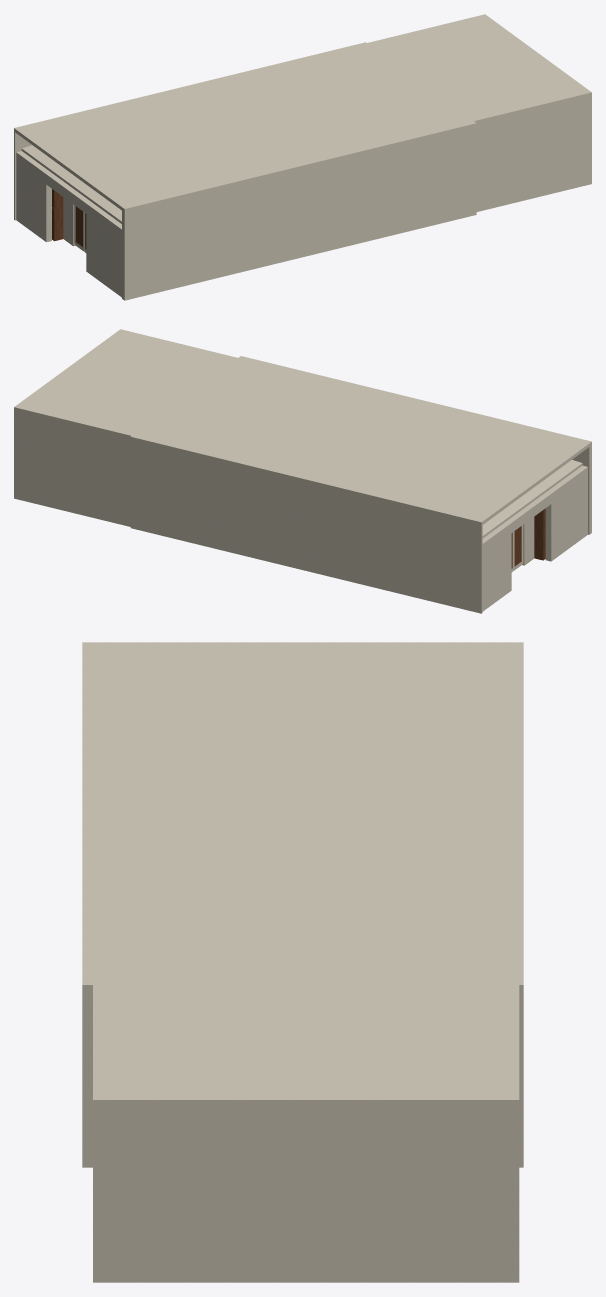
The picture shows the model from 3 angles, top to bottom: view 1: azimuth 30°, elevation 25°; view 2: azimuth 150°, elevation 25°; view 3: azimuth 270°, elevation 25°; orthographic projection. The views are drawn at different scales.
Parts seen in each view (by area): view 1: UpperPressureClosure, NorthAcousticWall, GalleryPressureClosure, GalleryForeEndWall, EntryForeReturn, EntryAftReturn, RisingLivingRoof, EntryHeader, EntryPocketAft, PrivateEntry_01_ENTRY_PocketSkin_1_1, HeldGalleryOutwardWall, SouthAcousticWall; view 2: UpperPressureClosure, SouthAcousticWall, GalleryPressureClosure, GalleryAftEndWall, EntryForeReturn, EntryAftReturn, RisingLivingRoof, EntryHeader, EntryPocketFore, NorthAcousticWall, PrivateEntry_01_ENTRY_PocketSkin_-1_1, HeldGalleryOutwardWall; view 3: UpperPressureClosure, HeldGalleryOutwardWall, GalleryPressureClosure, NorthAcousticWall, SouthAcousticWall.
Part boxes in pixels (left/top/right/bottom): UpperPressureClosure: left=14, top=42, right=476, bottom=212; NorthAcousticWall: left=122, top=127, right=476, bottom=300; GalleryPressureClosure: left=360, top=14, right=591, bottom=123; GalleryForeEndWall: left=476, top=97, right=587, bottom=211; EntryForeReturn: left=86, top=202, right=121, bottom=297; EntryAftReturn: left=16, top=151, right=51, bottom=242; RisingLivingRoof: left=21, top=145, right=121, bottom=223; EntryHeader: left=46, top=173, right=91, bottom=213; EntryPocketAft: left=52, top=189, right=63, bottom=241; PrivateEntry_01_ENTRY_PocketSkin_1_1: left=63, top=197, right=74, bottom=245; HeldGalleryOutwardWall: left=587, top=96, right=591, bottom=184; SouthAcousticWall: left=14, top=132, right=31, bottom=220; UpperPressureClosure: left=130, top=356, right=591, bottom=525; SouthAcousticWall: left=130, top=440, right=482, bottom=613; GalleryPressureClosure: left=14, top=329, right=245, bottom=438; GalleryAftEndWall: left=18, top=412, right=130, bottom=526; EntryForeReturn: left=545, top=465, right=587, bottom=561; EntryAftReturn: left=482, top=521, right=511, bottom=611; RisingLivingRoof: left=482, top=460, right=582, bottom=538; EntryHeader: left=506, top=492, right=551, bottom=532; EntryPocketFore: left=534, top=508, right=545, bottom=560; NorthAcousticWall: left=572, top=445, right=591, bottom=534; PrivateEntry_01_ENTRY_PocketSkin_-1_1: left=523, top=517, right=534, bottom=564; HeldGalleryOutwardWall: left=14, top=410, right=18, bottom=499; UpperPressureClosure: left=82, top=642, right=523, bottom=991; HeldGalleryOutwardWall: left=93, top=1106, right=519, bottom=1282; GalleryPressureClosure: left=93, top=977, right=519, bottom=1106; NorthAcousticWall: left=82, top=992, right=92, bottom=1167; SouthAcousticWall: left=519, top=992, right=523, bottom=1167.
Bounding box in the file's own units: 23.88 × 4.45 × 9.74.
179 materials, 172 textured.
